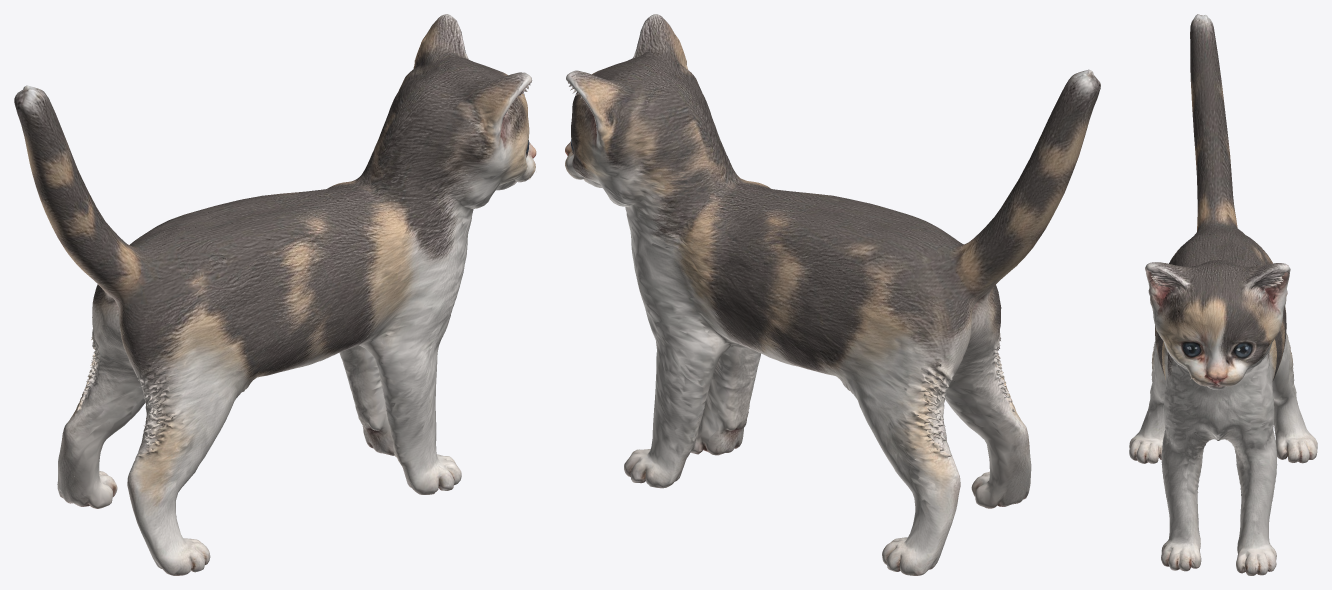
The model's file is ROKUCAT.glb.
3 views of the same model, side by side, from view 1: azimuth 30°, elevation 25°; view 2: azimuth 150°, elevation 25°; view 3: azimuth 270°, elevation 25° (orthographic). The views are drawn at different scales.
Parts seen in each view (by area): view 1: tripo_node_9c08e774-3a39-48d9-9d3b-8f584c424ce8; view 2: tripo_node_9c08e774-3a39-48d9-9d3b-8f584c424ce8; view 3: tripo_node_9c08e774-3a39-48d9-9d3b-8f584c424ce8.
Boxes of the visible parts, x1,y1,x2,y2 form: tripo_node_9c08e774-3a39-48d9-9d3b-8f584c424ce8: [14, 14, 536, 575]; tripo_node_9c08e774-3a39-48d9-9d3b-8f584c424ce8: [565, 14, 1100, 575]; tripo_node_9c08e774-3a39-48d9-9d3b-8f584c424ce8: [1129, 14, 1317, 575].
Bounding box in the file's own units: 1.13 × 0.9996 × 0.4325.
1 material, 1 textured.
